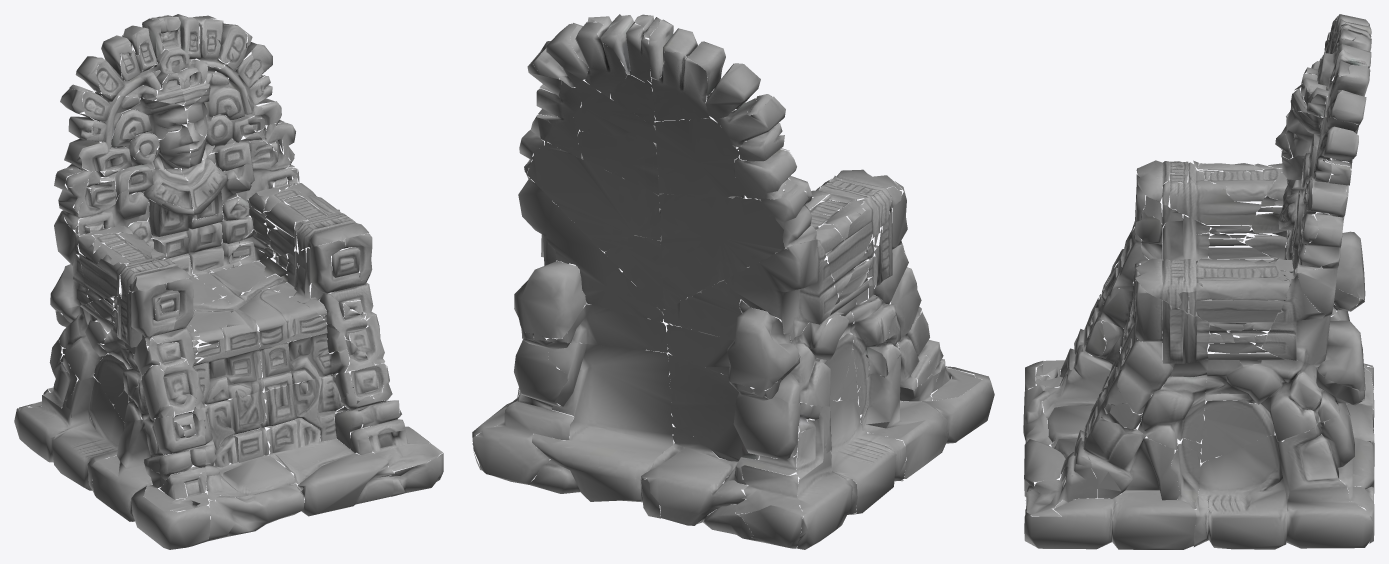
File: trono.glb
The picture shows the model from 3 angles, left to right: view 1: azimuth 30°, elevation 25°; view 2: azimuth 150°, elevation 25°; view 3: azimuth 270°, elevation 25°; orthographic projection. The views are drawn at different scales.
Parts seen in each view (by area): view 1: tripo_node_ccf02862-a507-4c38-92c1-f922928f352b; view 2: tripo_node_ccf02862-a507-4c38-92c1-f922928f352b; view 3: tripo_node_ccf02862-a507-4c38-92c1-f922928f352b.
Part boxes in pixels (x1,y1,x2,y2): tripo_node_ccf02862-a507-4c38-92c1-f922928f352b: [14, 14, 443, 549]; tripo_node_ccf02862-a507-4c38-92c1-f922928f352b: [472, 14, 994, 549]; tripo_node_ccf02862-a507-4c38-92c1-f922928f352b: [1023, 14, 1374, 549].
Size of the model in its own units: 0.7393 by 1 by 0.7119.
Materials: 1 (1 with a texture image).
